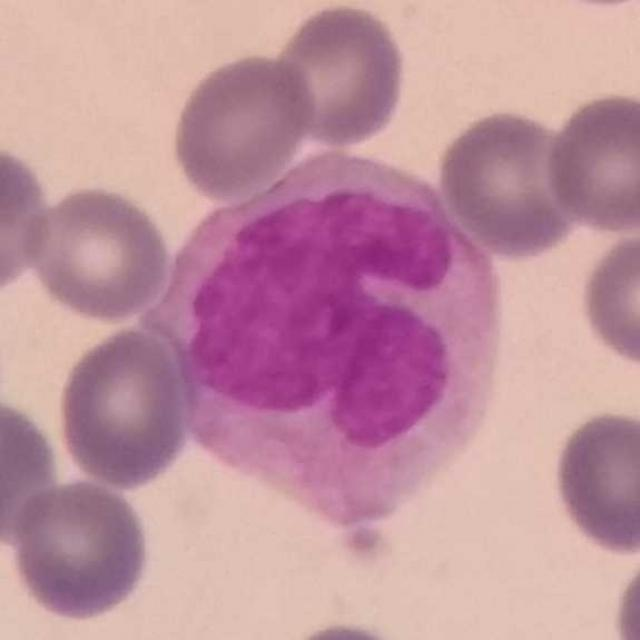Monocyte: (153, 151, 509, 540)
RBC: (434, 104, 584, 262), (166, 48, 319, 202), (52, 324, 192, 492), (19, 181, 175, 325), (5, 476, 154, 624), (268, 0, 410, 151), (541, 88, 640, 236), (548, 405, 640, 558), (0, 391, 63, 550), (575, 225, 640, 373), (0, 142, 56, 298), (270, 617, 426, 640), (609, 534, 640, 640), (525, 0, 637, 13)
